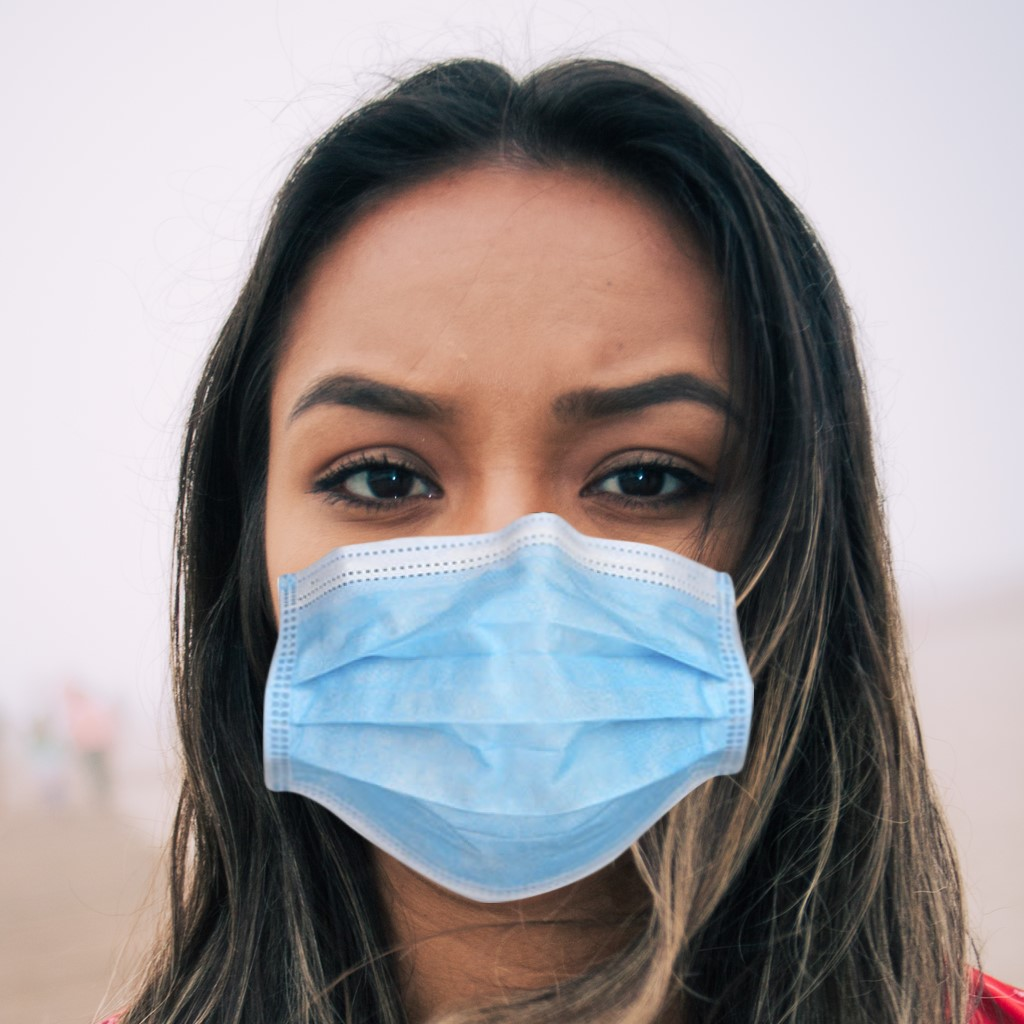con_mascara: (287, 142, 805, 911)
